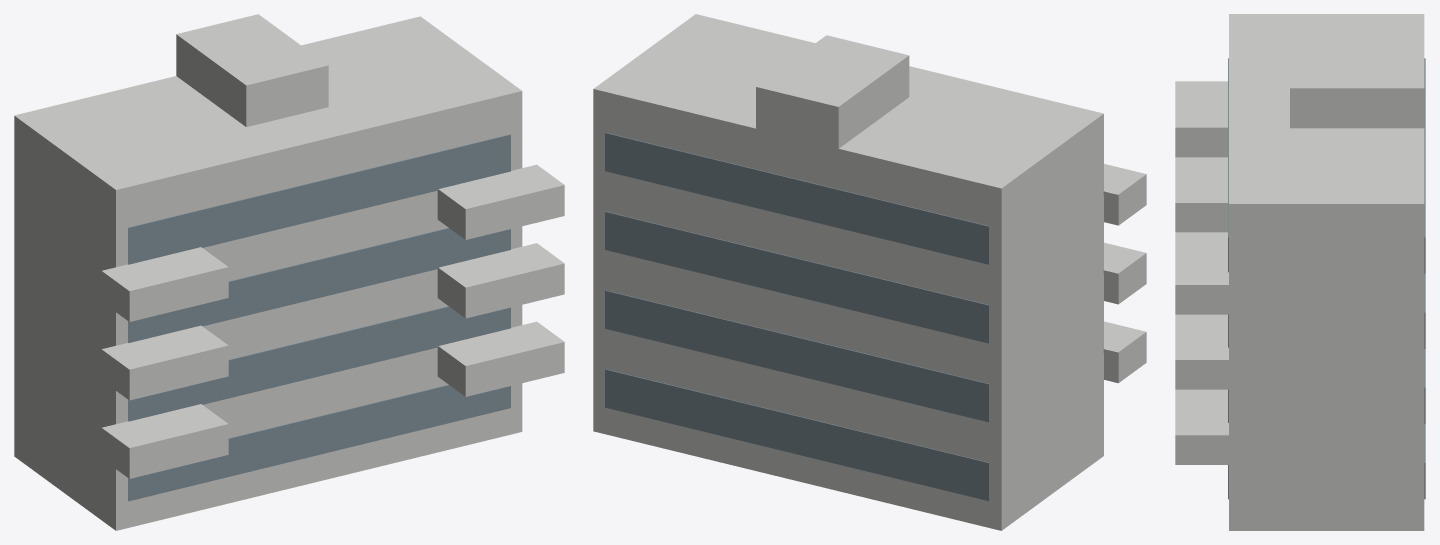
The model's file is bauhaus-block.zfix-v13.lod2.glb.
The picture shows the model from 3 angles, left to right: view 1: azimuth 30°, elevation 25°; view 2: azimuth 150°, elevation 25°; view 3: azimuth 270°, elevation 25°; orthographic projection. The views are drawn at different scales.
Visible parts, largest first — view 1: bauhaus-block; view 2: bauhaus-block; view 3: bauhaus-block.
Boxes of the visible parts, left/top/right/bottom form: bauhaus-block: left=14, top=14, right=564, bottom=530; bauhaus-block: left=593, top=14, right=1146, bottom=530; bauhaus-block: left=1175, top=14, right=1425, bottom=530.
Bounding box in the file's own units: 18 × 15.12 × 9.34.
